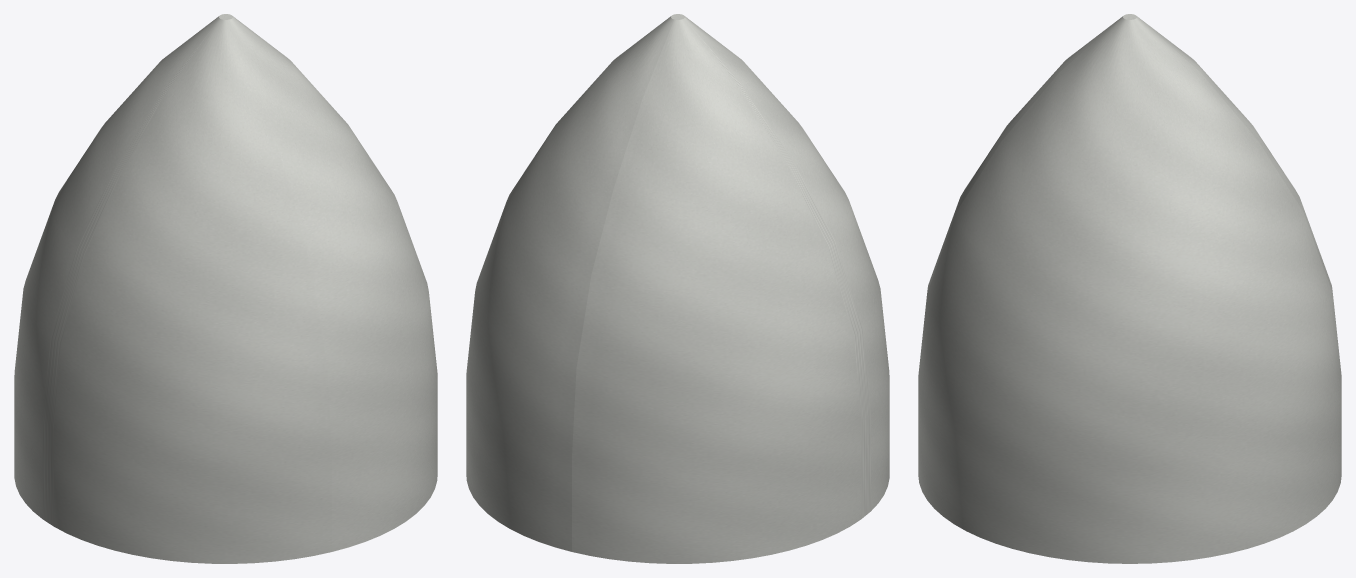
Rendered from fairing_large.glb.
3 renders of one model, left to right at view 1: azimuth 30°, elevation 25°; view 2: azimuth 150°, elevation 25°; view 3: azimuth 270°, elevation 25°, orthographic.
Parts seen in each view (by area): view 1: Fairing_Shell_Left.009, Fairing_Shell_Right.009; view 2: Fairing_Shell_Left.009, Fairing_Shell_Right.009; view 3: Fairing_Shell_Right.009, Fairing_Shell_Left.009.
Part boxes in pixels (x1,y1,x2,y2): Fairing_Shell_Left.009: (14,14,331,563); Fairing_Shell_Right.009: (223,14,437,551); Fairing_Shell_Left.009: (572,14,889,563); Fairing_Shell_Right.009: (466,14,680,551); Fairing_Shell_Right.009: (918,17,1341,563); Fairing_Shell_Left.009: (927,14,1332,293).
Size of the model in its own units: 3.6 by 4.29 by 3.6.
2 materials, 1 textured.
